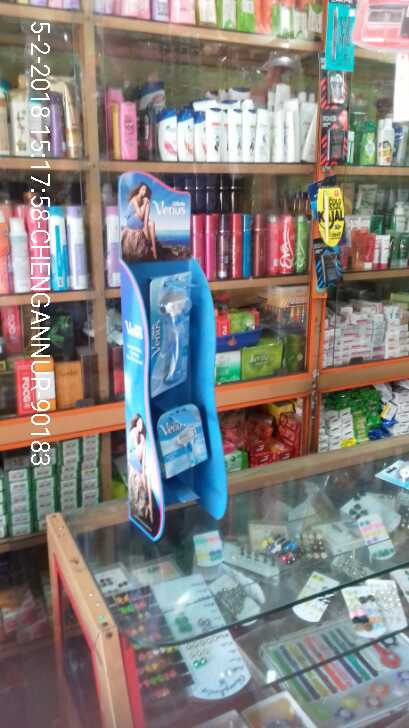venus: (157, 396, 211, 478), (156, 275, 195, 384)
